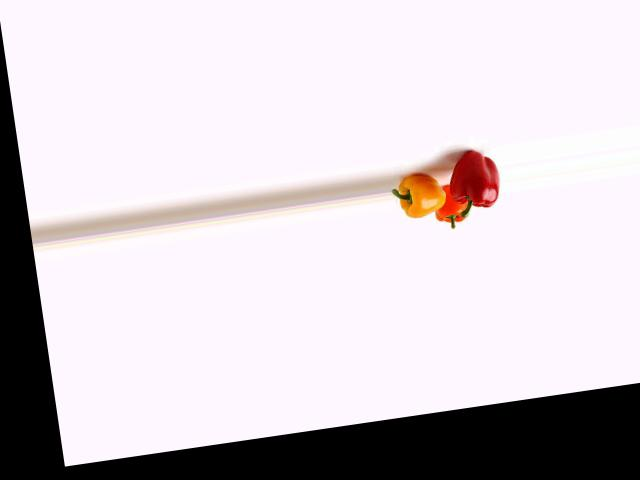bell_pepper: (441, 141, 506, 225)
